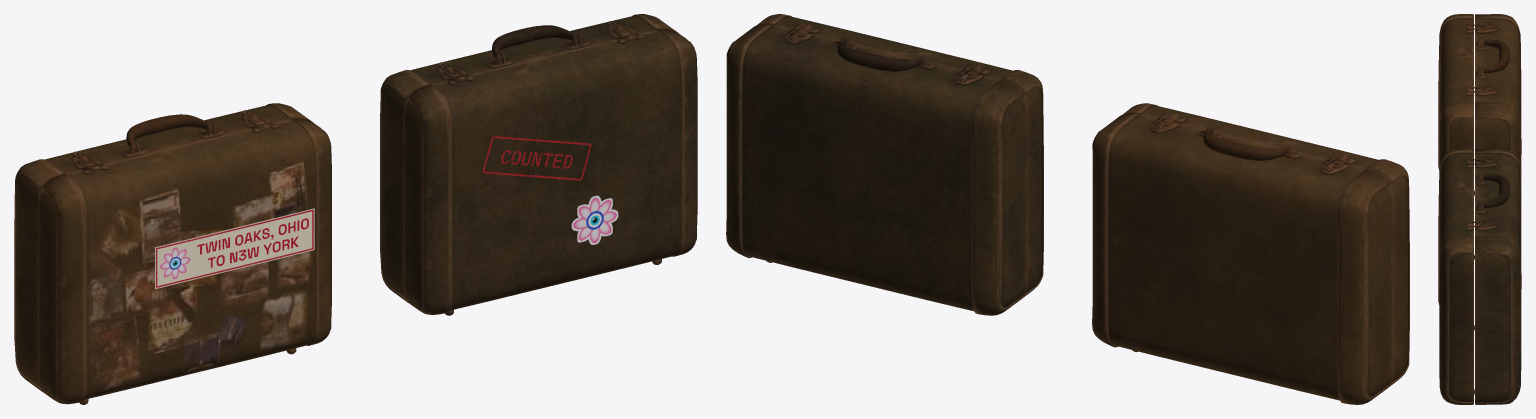
The model's file is nyb_oot_suitcase.glb.
3 renders of one model, left to right at view 1: azimuth 30°, elevation 25°; view 2: azimuth 150°, elevation 25°; view 3: azimuth 270°, elevation 25°, orthographic. The views are drawn at different scales.
Parts seen in each view (by area): view 1: vintage_suitcase_01_bottom, stk_lbl_6b8ac123dc.png, stk_eyeflower_die.png, stk_counted.png; view 2: vintage_suitcase_01_bottom; view 3: vintage_suitcase_01_bottom.
Part boxes in pixels (bbox=[...]): vintage_suitcase_01_bottom: bbox=[14, 14, 697, 404]; stk_lbl_6b8ac123dc.png: bbox=[155, 208, 314, 288]; stk_eyeflower_die.png: bbox=[571, 195, 618, 244]; stk_counted.png: bbox=[483, 136, 591, 180]; vintage_suitcase_01_bottom: bbox=[726, 14, 1409, 404]; vintage_suitcase_01_bottom: bbox=[1438, 14, 1521, 404].
Size of the model in its own units: 1.61 by 0.5679 by 0.2392.
Materials: 5 (5 with a texture image).
